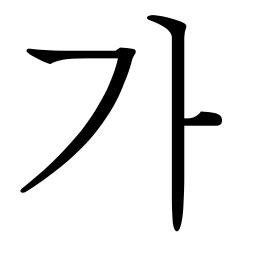Gaji: (157, 101, 207, 147)
